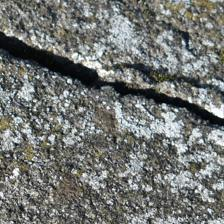Crack: (3, 16, 218, 115)
